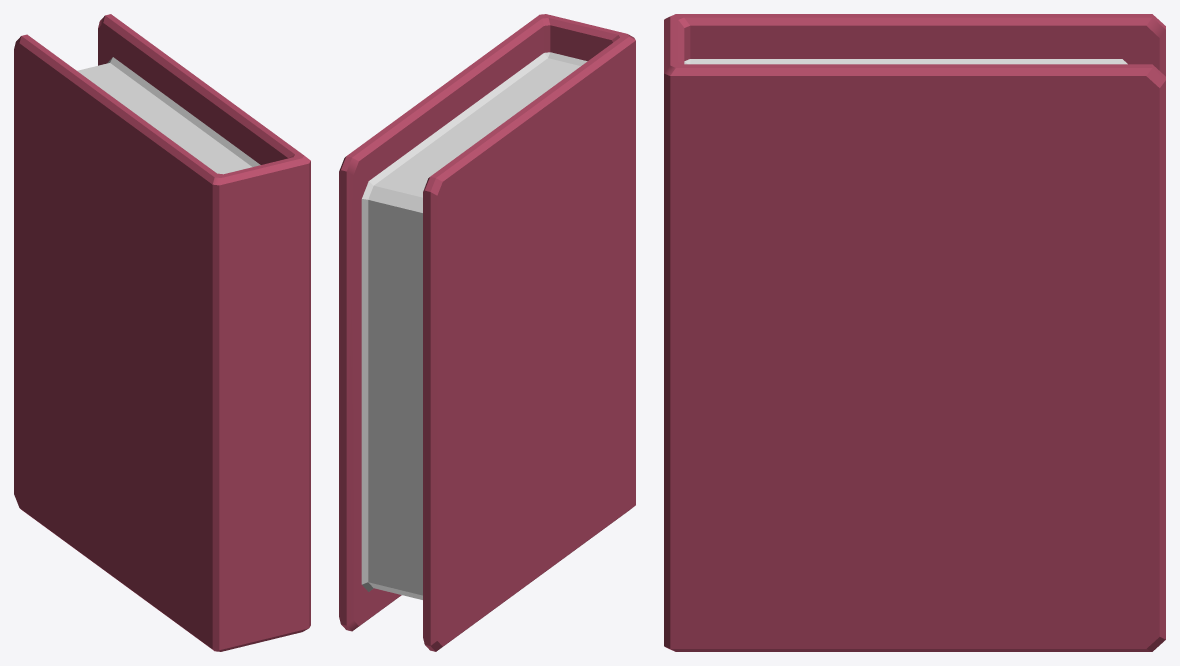
File: SM_Book.fbx
3 views of the same model, side by side, from view 1: azimuth 30°, elevation 25°; view 2: azimuth 150°, elevation 25°; view 3: azimuth 270°, elevation 25° (orthographic). The views are drawn at different scales.
Parts seen in each view (by area): view 1: SM_Book; view 2: SM_Book; view 3: SM_Book.
Boxes of the visible parts, x1,y1,x2,y2 form: SM_Book: (14,14,310,651); SM_Book: (339,14,635,651); SM_Book: (664,14,1165,651).
Bounding box in the file's own units: 6.14 × 28.27 × 22.02.
